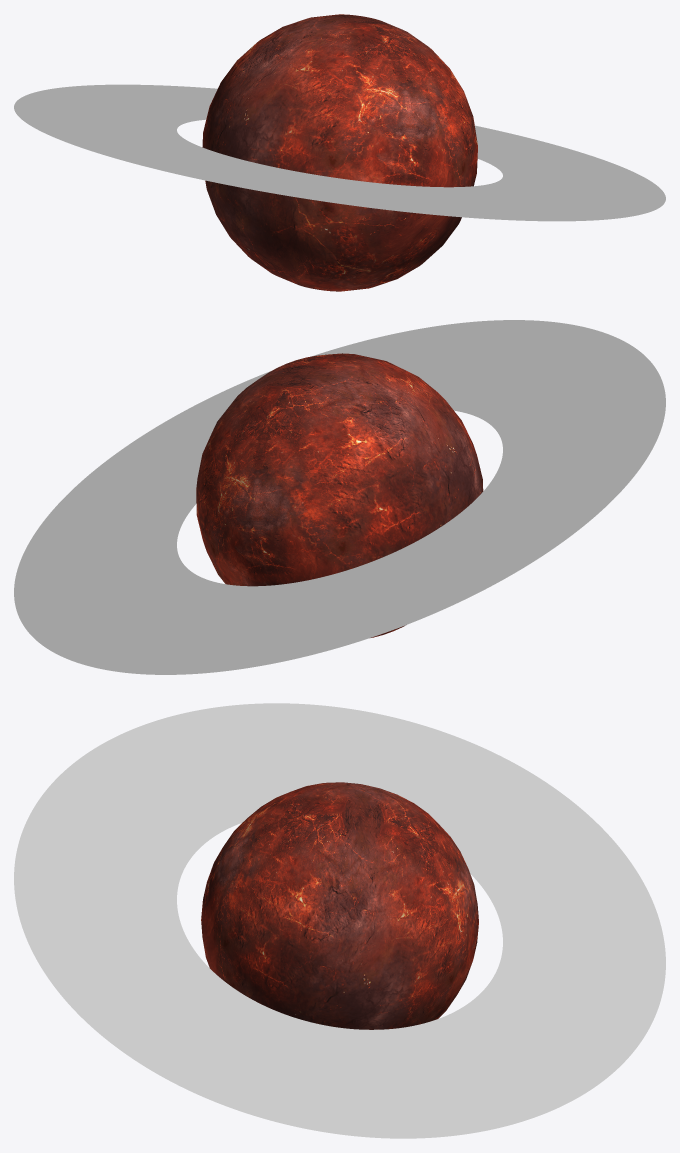
The model's file is moon_T_moon_02.fbx.
The picture shows the model from 3 angles, top to bottom: view 1: azimuth 30°, elevation 25°; view 2: azimuth 150°, elevation 25°; view 3: azimuth 270°, elevation 25°; orthographic projection. The views are drawn at different scales.
Visible parts, largest first — view 1: moon_T_moon_02; view 2: moon_T_moon_02; view 3: moon_T_moon_02.
Part boxes in pixels (x1,y1,x2,y2): moon_T_moon_02: (14, 14, 665, 291); moon_T_moon_02: (14, 320, 665, 674); moon_T_moon_02: (14, 703, 665, 1138).
Size of the model in its own units: 185 by 80.36 by 189.
